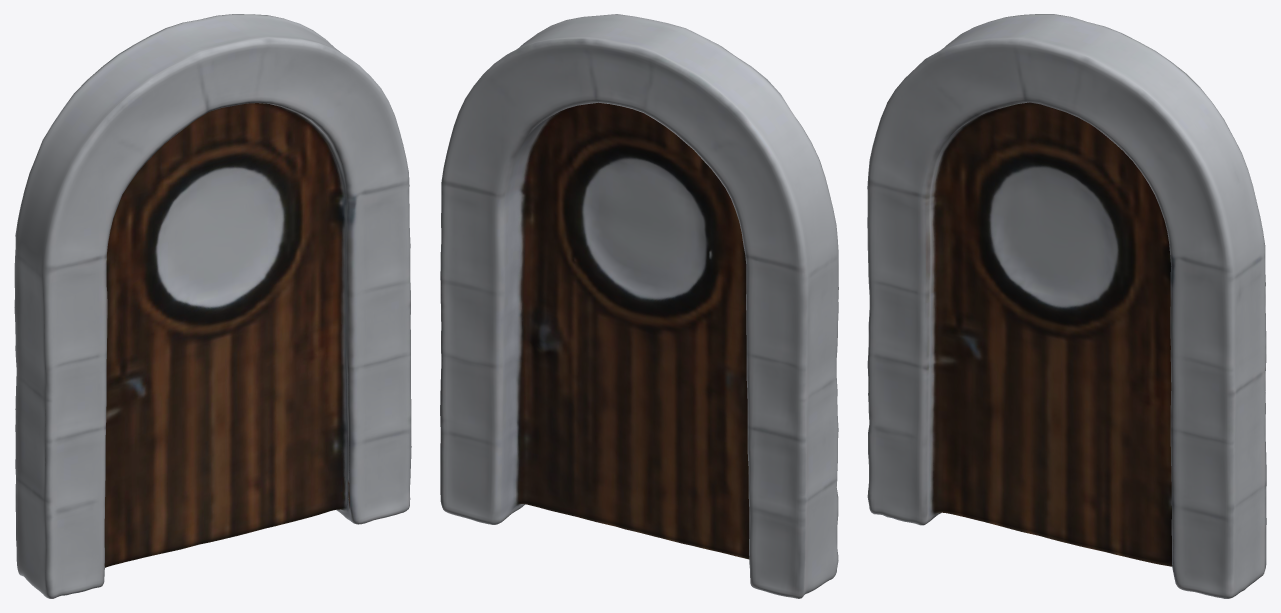
The model's file is 0c55194d5eaa_single_wooden_door_.fbx.
The picture shows the model from 3 angles, left to right: view 1: azimuth 30°, elevation 25°; view 2: azimuth 150°, elevation 25°; view 3: azimuth 330°, elevation 25°; orthographic projection.
Parts seen in each view (by area): view 1: mesh; view 2: mesh; view 3: mesh.
Part boxes in pixels (bbox=[...]): mesh: bbox=[14, 14, 411, 598]; mesh: bbox=[440, 14, 838, 598]; mesh: bbox=[867, 14, 1266, 598].
Bounding box in the file's own units: 74.67 × 99.88 × 13.08.
